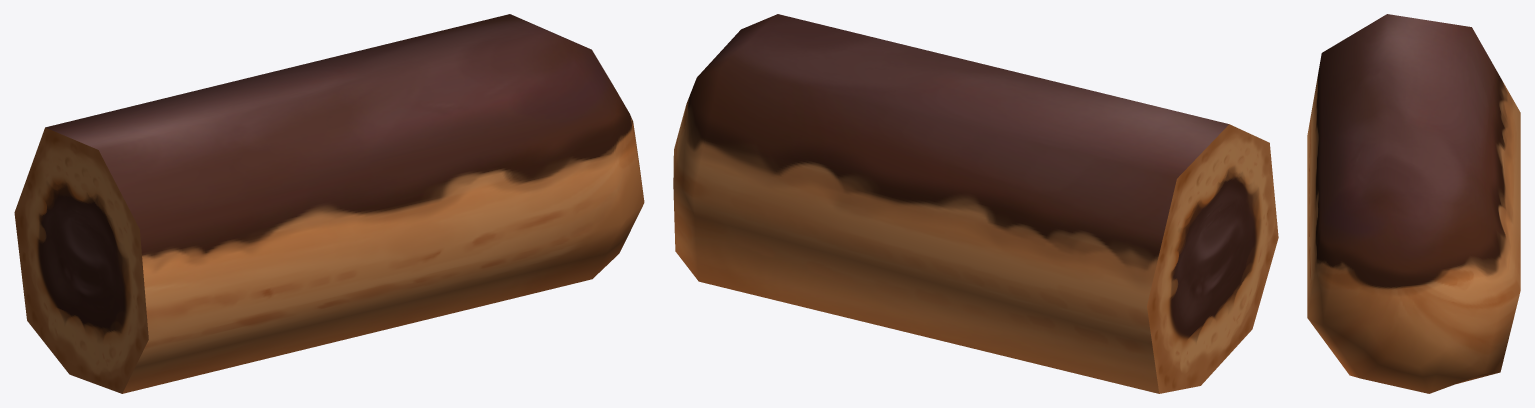
Rendered from eclairhalf.fbx.
The picture shows the model from 3 angles, left to right: view 1: azimuth 30°, elevation 25°; view 2: azimuth 150°, elevation 25°; view 3: azimuth 270°, elevation 25°; orthographic projection. The views are drawn at different scales.
Parts seen in each view (by area): view 1: eclairhalf; view 2: eclairhalf; view 3: eclairhalf.
Boxes of the visible parts, box(x1,y1,x2,y2) form: eclairhalf: box(14, 14, 644, 393); eclairhalf: box(673, 14, 1278, 393); eclairhalf: box(1307, 14, 1520, 393).
Bounding box in the file's own units: 18.91 × 8.34 × 8.27.
